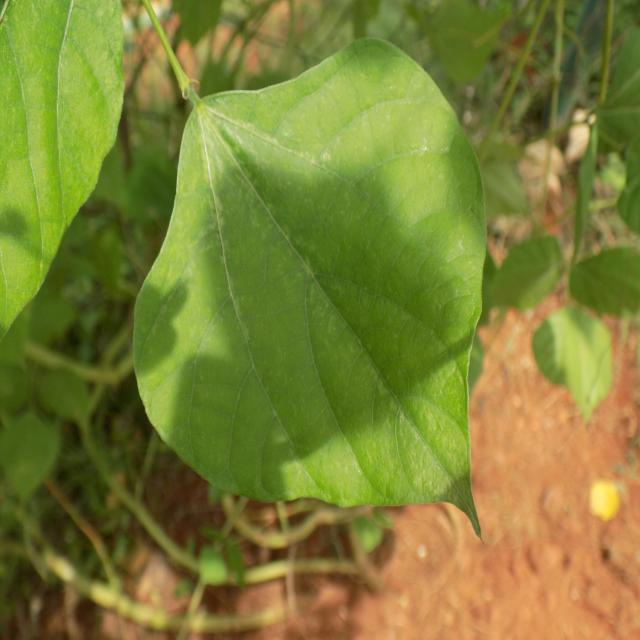Dolicos bean_healthy: (134, 25, 483, 538)
